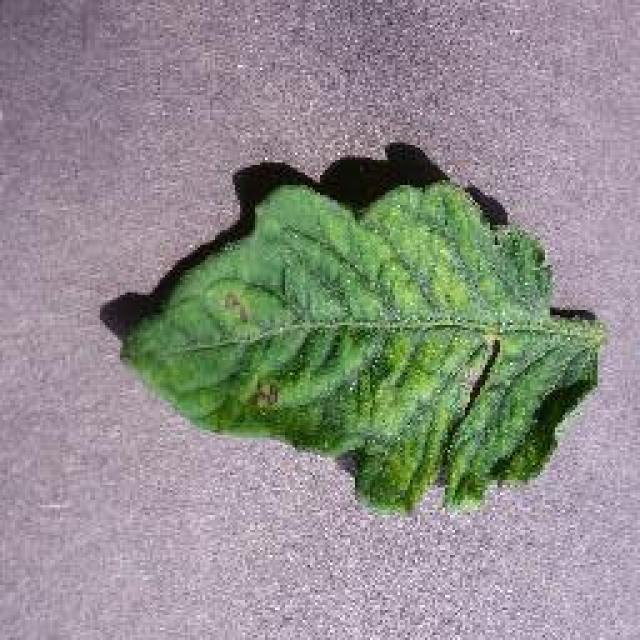Tomato spider mites leaf: (124, 175, 606, 517)
